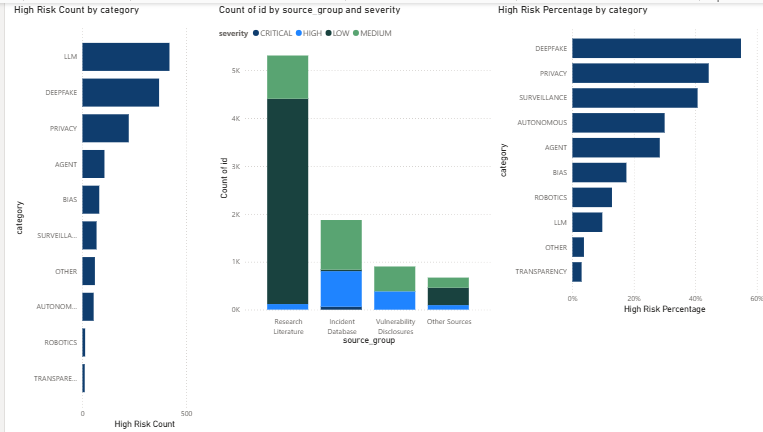

What the dashboard file says about the page in this screenshot:
{"tool":"powerbi","page":{"name":"Page 2","canvas":[1280,720],"ordinal":1},"visuals":[{"type":"clusteredBarChart","fields":{"Category":["ai_incidents_classified.category"],"Y":["ai_incidents_classified.High Risk Count"]},"box":[10.1,0,344.4,720.6],"z":0},{"type":"columnChart","fields":{"Category":["ai_incidents_classified.source_group"],"Y":["CountNonNull(ai_incidents_classified.id)"],"Series":["ai_incidents_classified.severity"]},"box":[354.4,0,468.7,579.5],"z":1},{"type":"clusteredBarChart","fields":{"Y":["ai_incidents_classified.High Risk Percentage"],"Category":["ai_incidents_classified.category"]},"box":[823.1,0,456.9,527.5],"z":2}]}

Visuals, with their boxes in screenshot pixels (x1, y1, x2, y2), scaled from the page's 1280x720 canvas onto the 763x432 screenshot:
clusteredBarChart - ai_incidents_classified.category x ai_incidents_classified.High Risk Count: Rect(6, 0, 211, 431)
columnChart - ai_incidents_classified.source_group x CountNonNull(ai_incidents_classified.id): Rect(211, 0, 491, 348)
clusteredBarChart - ai_incidents_classified.High Risk Percentage x ai_incidents_classified.category: Rect(491, 0, 762, 316)
